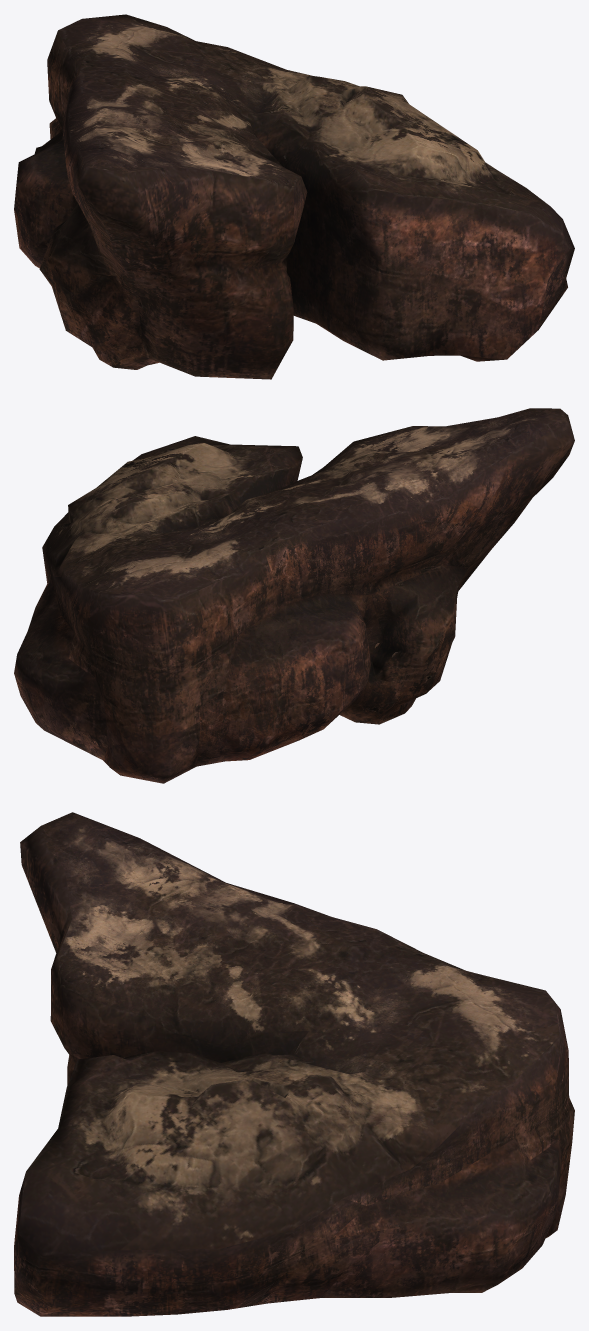
Rendered from rock_red_medium04.dae.
3 renders of one model, top to bottom at view 1: azimuth 30°, elevation 25°; view 2: azimuth 150°, elevation 25°; view 3: azimuth 270°, elevation 25°, orthographic. The views are drawn at different scales.
Visible parts, largest first — view 1: Mesh__2_; view 2: Mesh__2_; view 3: Mesh__2_.
Boxes of the visible parts, x1,y1,x2,y2 form: Mesh__2_: (14, 14, 574, 379); Mesh__2_: (14, 408, 574, 783); Mesh__2_: (14, 812, 574, 1316).
Bounding box in the file's own units: 1.98 × 1.12 × 1.86.
